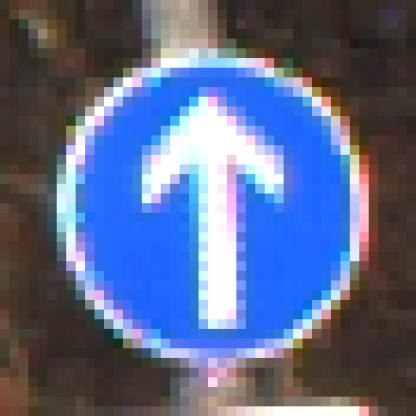AheadOnly: (58, 49, 370, 359)
